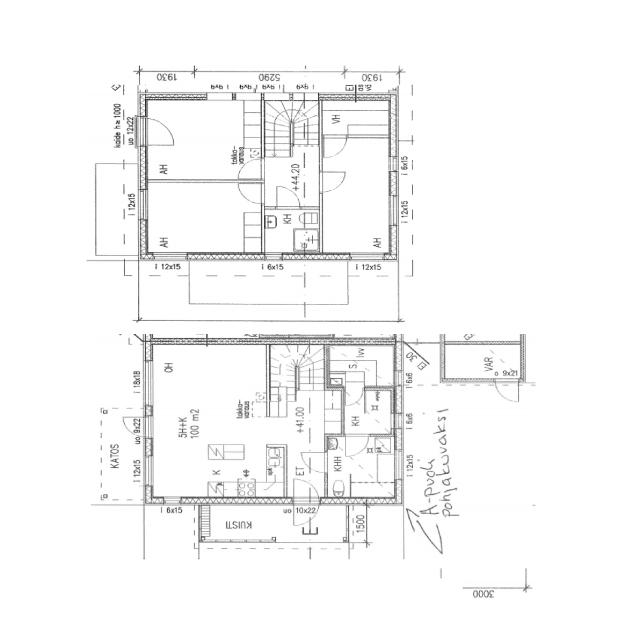door: (140, 114, 179, 148), (290, 476, 320, 518), (272, 184, 303, 211), (320, 134, 350, 160), (235, 180, 266, 205), (301, 450, 330, 476), (318, 169, 348, 193), (235, 158, 266, 181), (494, 379, 522, 403), (344, 433, 371, 457), (121, 415, 145, 436), (342, 386, 364, 406)
window: (141, 358, 156, 408), (136, 186, 151, 223), (386, 193, 401, 227), (144, 452, 156, 488), (348, 251, 385, 262), (151, 251, 191, 261), (393, 447, 404, 482), (204, 92, 236, 103), (144, 414, 156, 441), (162, 495, 183, 507), (264, 252, 284, 264), (392, 370, 405, 386)
zone: (147, 346, 270, 501), (143, 98, 264, 181), (319, 137, 396, 260), (140, 180, 261, 257), (328, 436, 400, 500), (325, 344, 397, 388), (441, 344, 524, 382), (262, 208, 321, 256), (338, 388, 396, 436), (301, 450, 330, 476), (293, 228, 320, 253), (392, 404, 402, 432)
